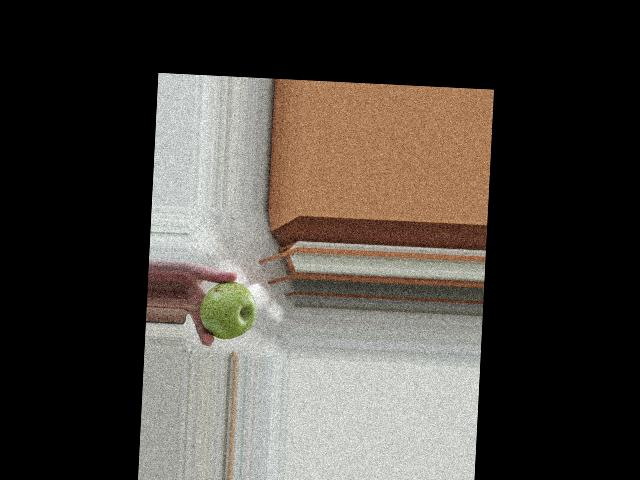apple: (196, 279, 259, 343)
